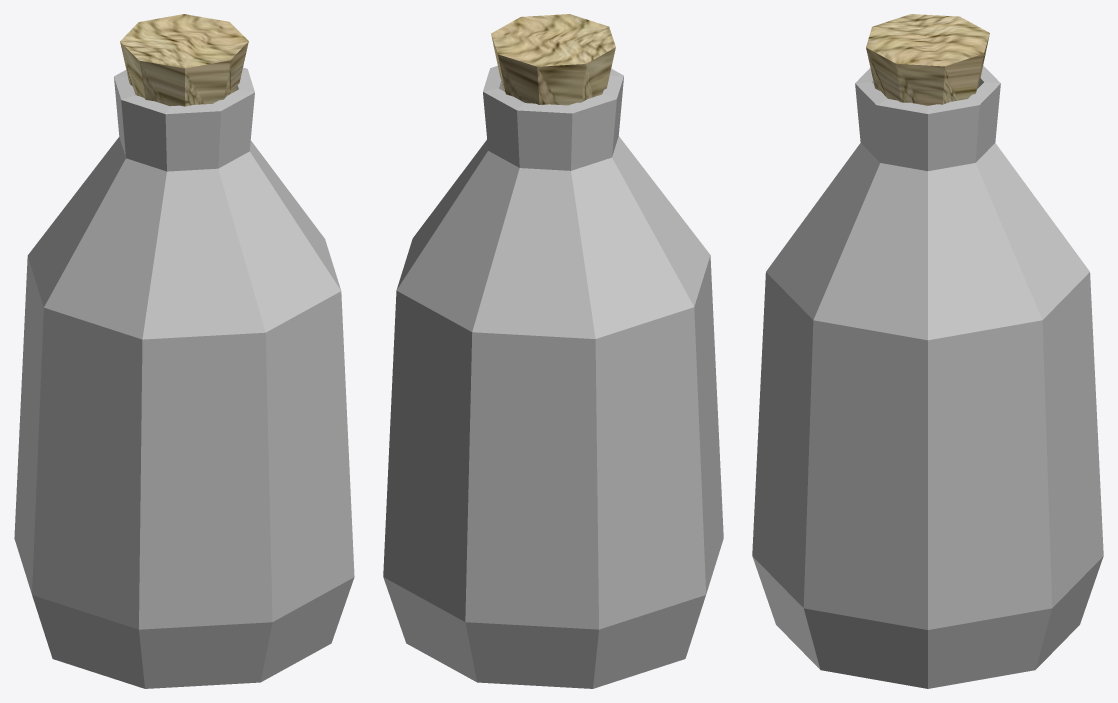
File: bottle3.fbx
3 renders of one model, left to right at view 1: azimuth 30°, elevation 25°; view 2: azimuth 150°, elevation 25°; view 3: azimuth 270°, elevation 25°, orthographic.
Visible parts, largest first — view 1: Cylinder; view 2: Cylinder; view 3: Cylinder.
Boxes of the visible parts, left/top/right/bottom form: Cylinder: left=14, top=14, right=354, bottom=688; Cylinder: left=383, top=14, right=723, bottom=688; Cylinder: left=752, top=14, right=1103, bottom=688.
Bounding box in the file's own units: 169 × 310 × 169.
